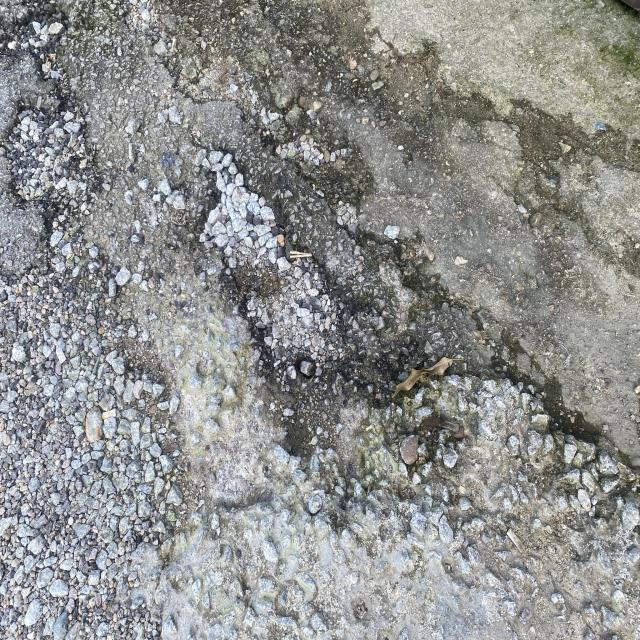pothole: (161, 130, 575, 518)
